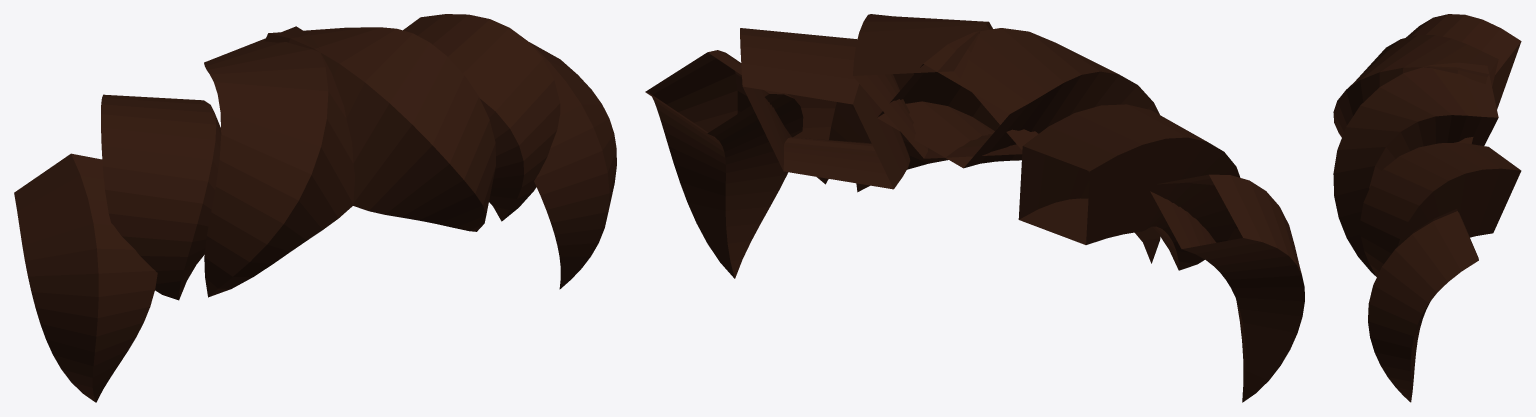
File: Moustache.FBX
3 renders of one model, left to right at view 1: azimuth 30°, elevation 25°; view 2: azimuth 150°, elevation 25°; view 3: azimuth 270°, elevation 25°, orthographic. The views are drawn at different scales.
Parts seen in each view (by area): view 1: Object001; view 2: Object001; view 3: Object001.
Boxes of the visible parts, x1,y1,x2,y2 form: Object001: [14, 14, 616, 402]; Object001: [645, 14, 1304, 402]; Object001: [1333, 14, 1521, 402].
Bounding box in the file's own units: 21.05 × 9.95 × 6.99.
